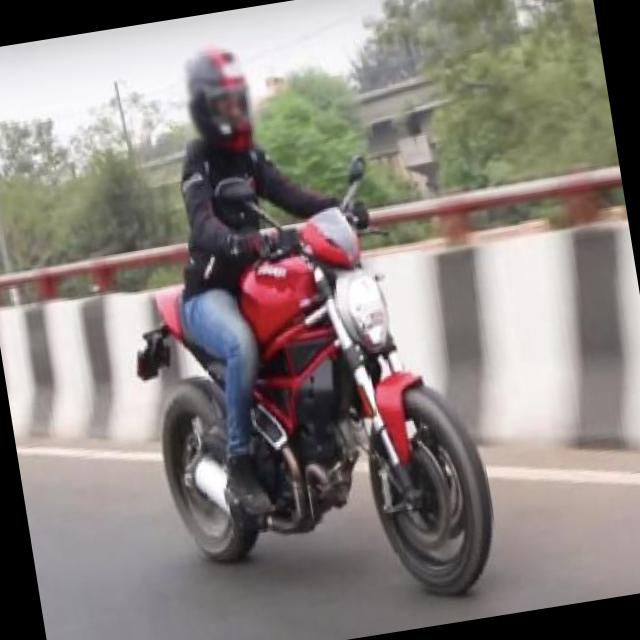With Helmet: (173, 38, 267, 165)
